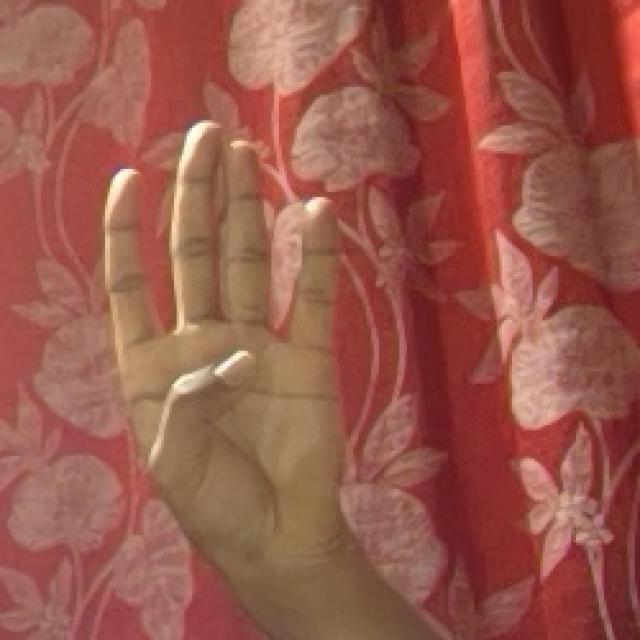Numeric-4: (115, 122, 345, 565), (391, 455, 392, 456)
